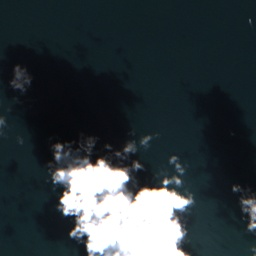Ship: (248, 18, 252, 23)
